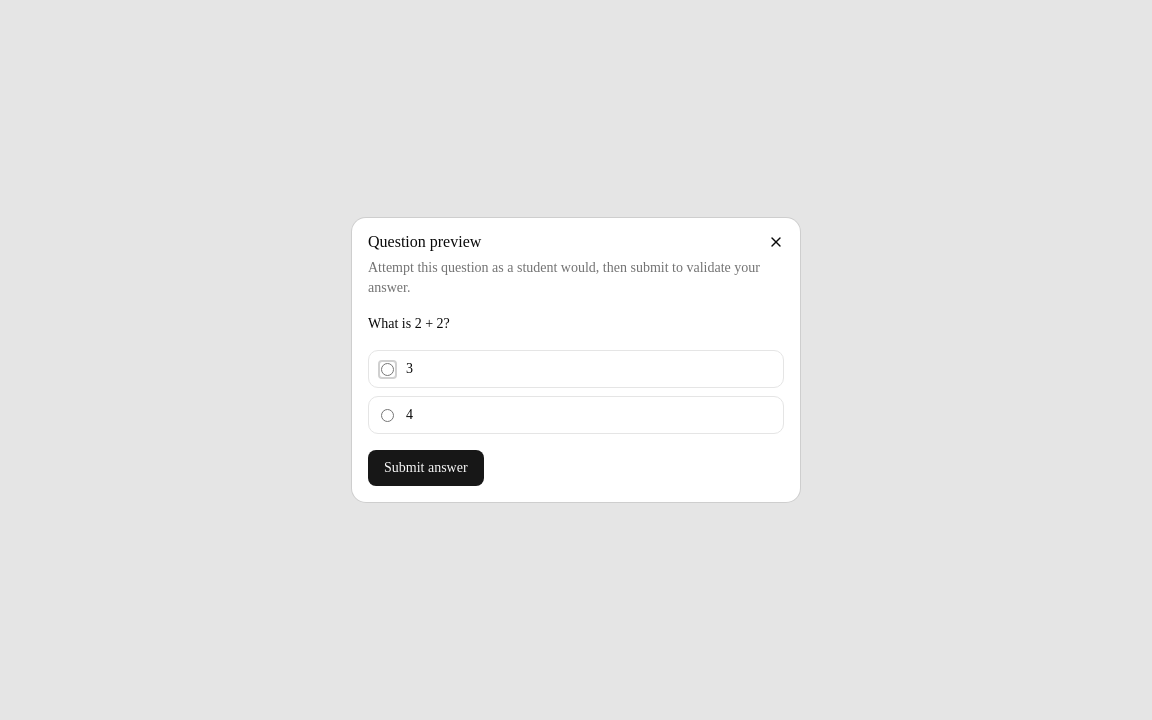
Test case: QuestionPreviewDialog › shows incorrect result with the correct answer
Click the radio button labelled "3" at (388, 369), box [381, 362, 394, 376]
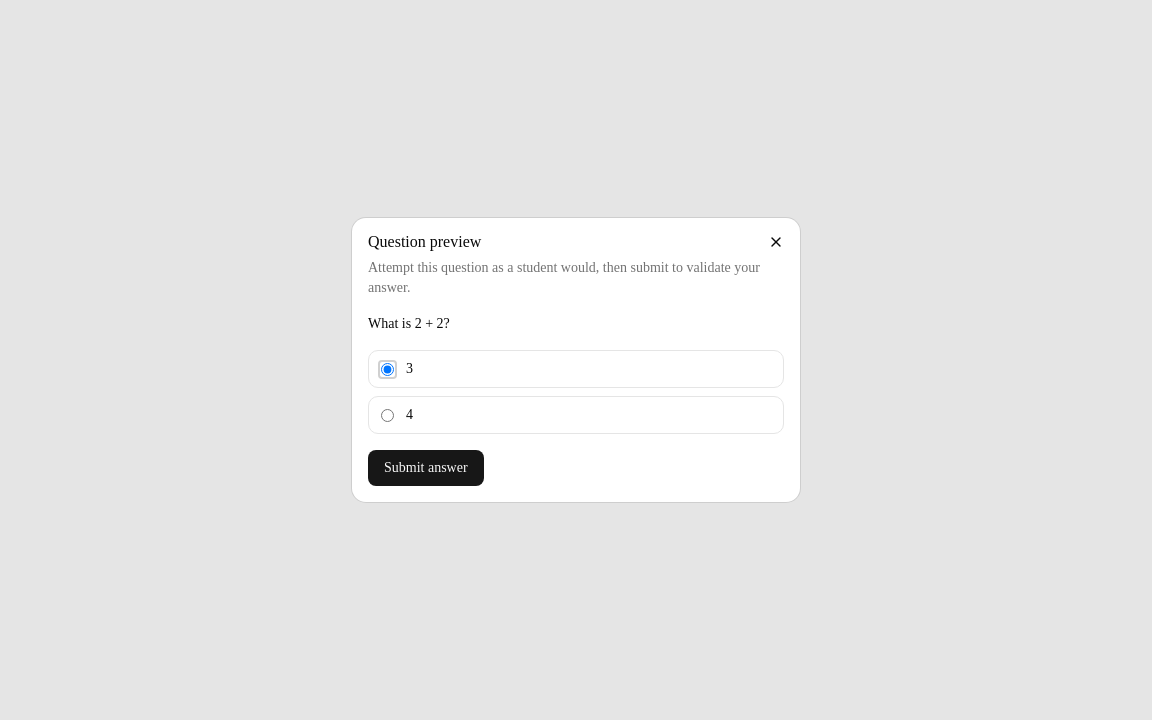
Click the button "Submit answer" at (426, 468), box [368, 450, 484, 486]
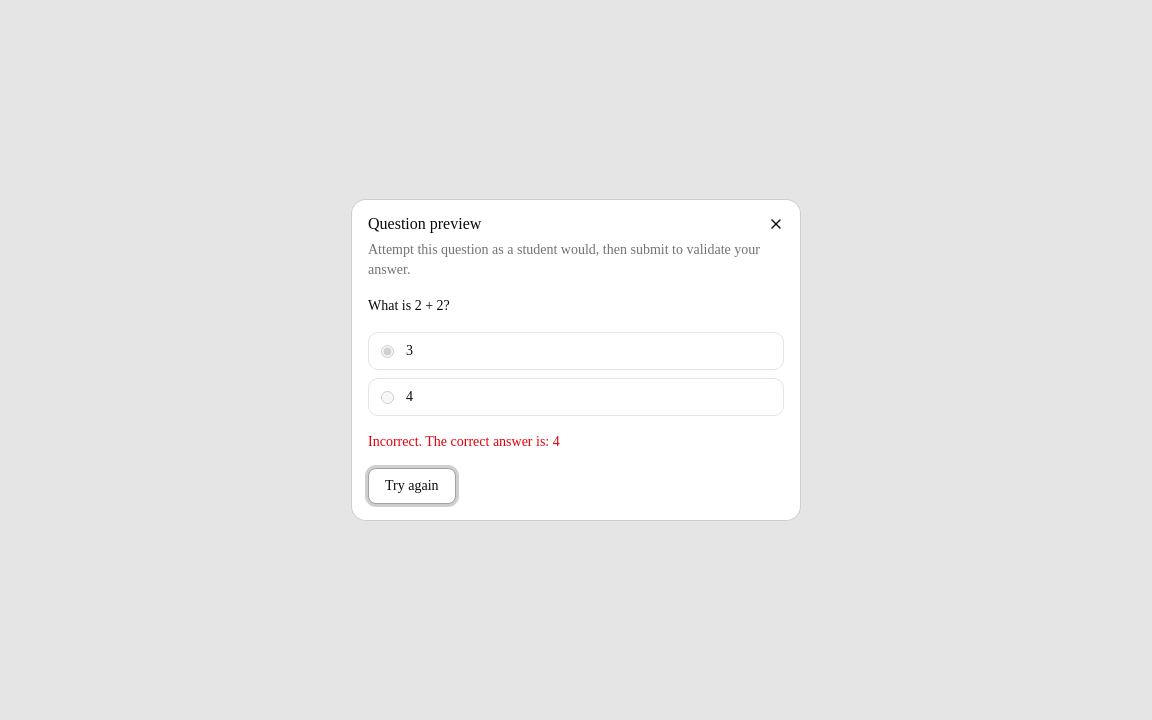
Now the text "Incorrect. The correct answer is: 4" is shown, box [368, 434, 560, 449]
